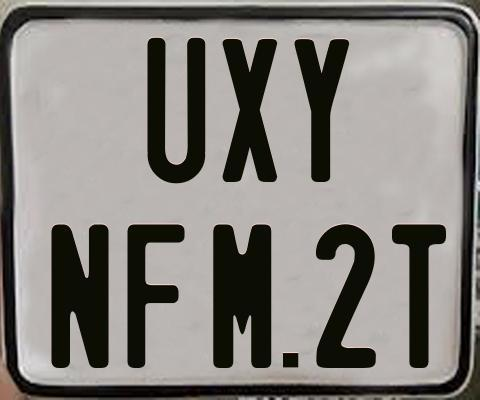2: (316, 221, 377, 365)
F: (125, 222, 187, 368)
M: (212, 223, 276, 371)
N: (49, 223, 110, 369)
T: (392, 224, 447, 370)
U: (146, 37, 204, 188)
X: (220, 38, 281, 181)
Y: (292, 39, 350, 188)
